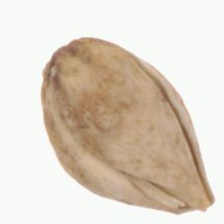L1: (37, 39, 81, 70), (174, 194, 217, 215)
L2: (39, 37, 215, 215)
